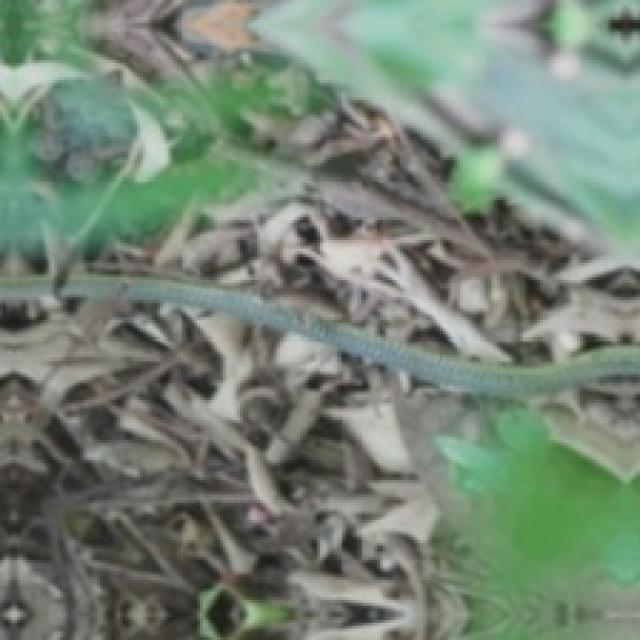paradise tree snake: (60, 274, 637, 397)
